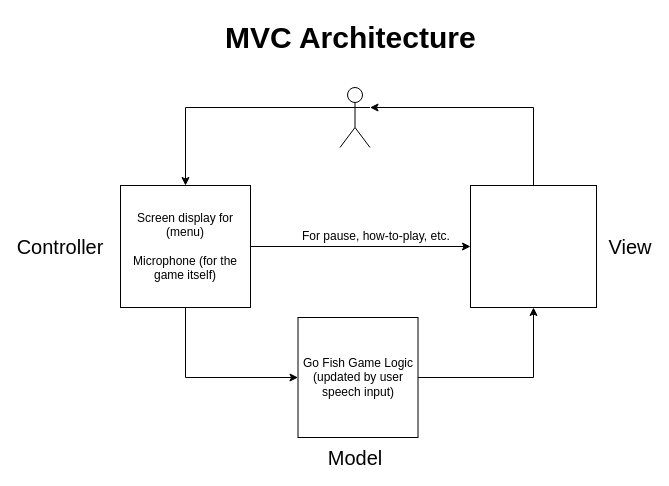
The diagram is 669 pixels wide and 486 high, and some of its shapes have lost their labels. The centre of each missing label's shape, as x and y in pixels:
"Updated display Computer responds with voice" belongs at [533,246].
"User" belongs at [354,117].
